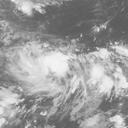cyclone: (33, 50, 82, 101)
